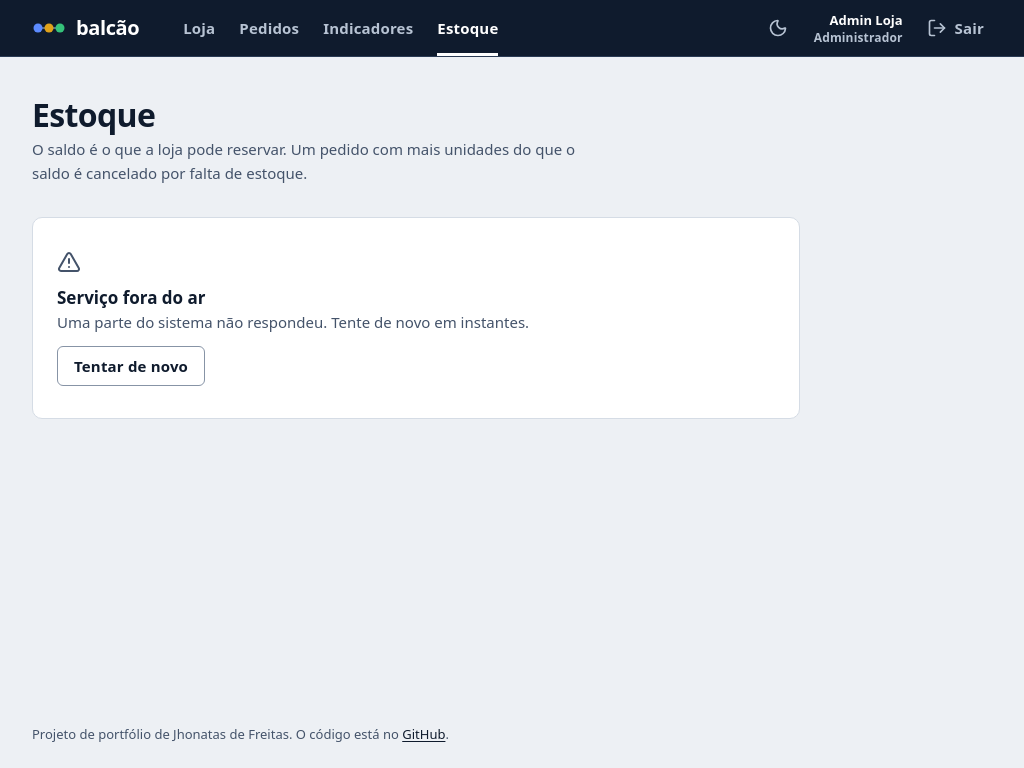
Test: error state, one per screen › stockOffersRetryWhenProductsFail
Step 1. Click the button "Tentar de novo" → point(131, 366), box x1=57 y1=346 x2=205 y2=386
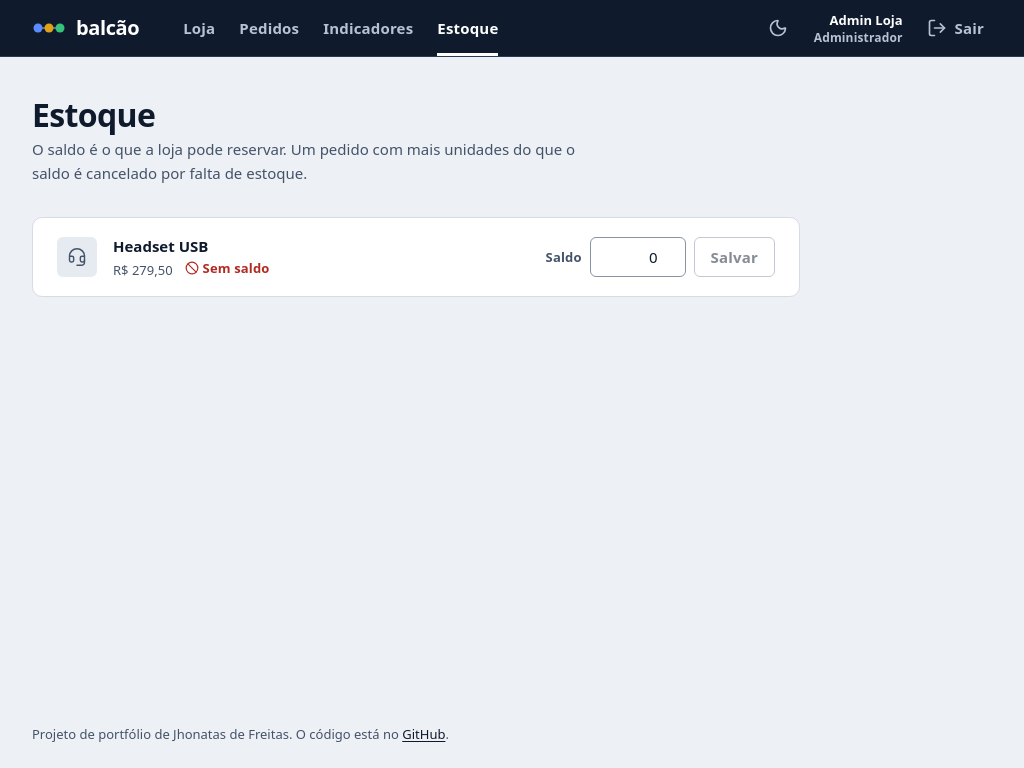
Result: the number field named "Saldo de Headset USB" holds "0" at x1=590 y1=237 x2=686 y2=277
